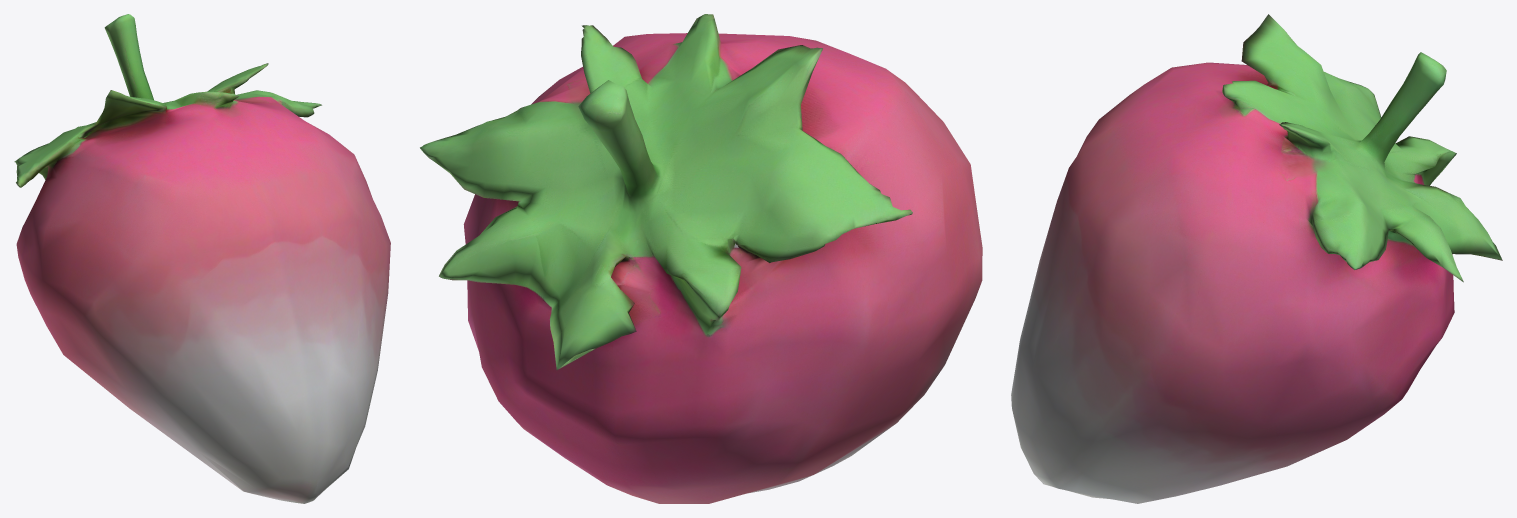
The model's file is fruit_strawberry_s.glb.
3 renders of one model, left to right at view 1: azimuth 30°, elevation 25°; view 2: azimuth 150°, elevation 25°; view 3: azimuth 270°, elevation 25°, orthographic. The views are drawn at different scales.
Bounding box in the file's own units: 1.76 × 1.96 × 2.
1 material, 1 textured.
